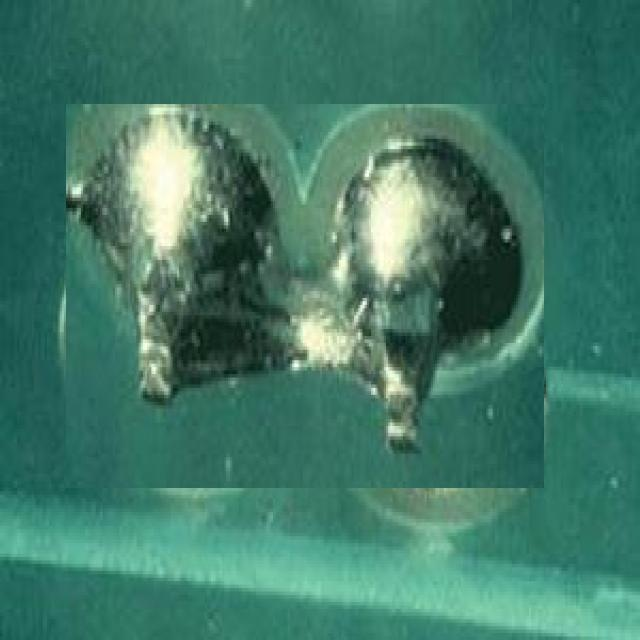Short_circuit: (66, 104, 544, 488)
